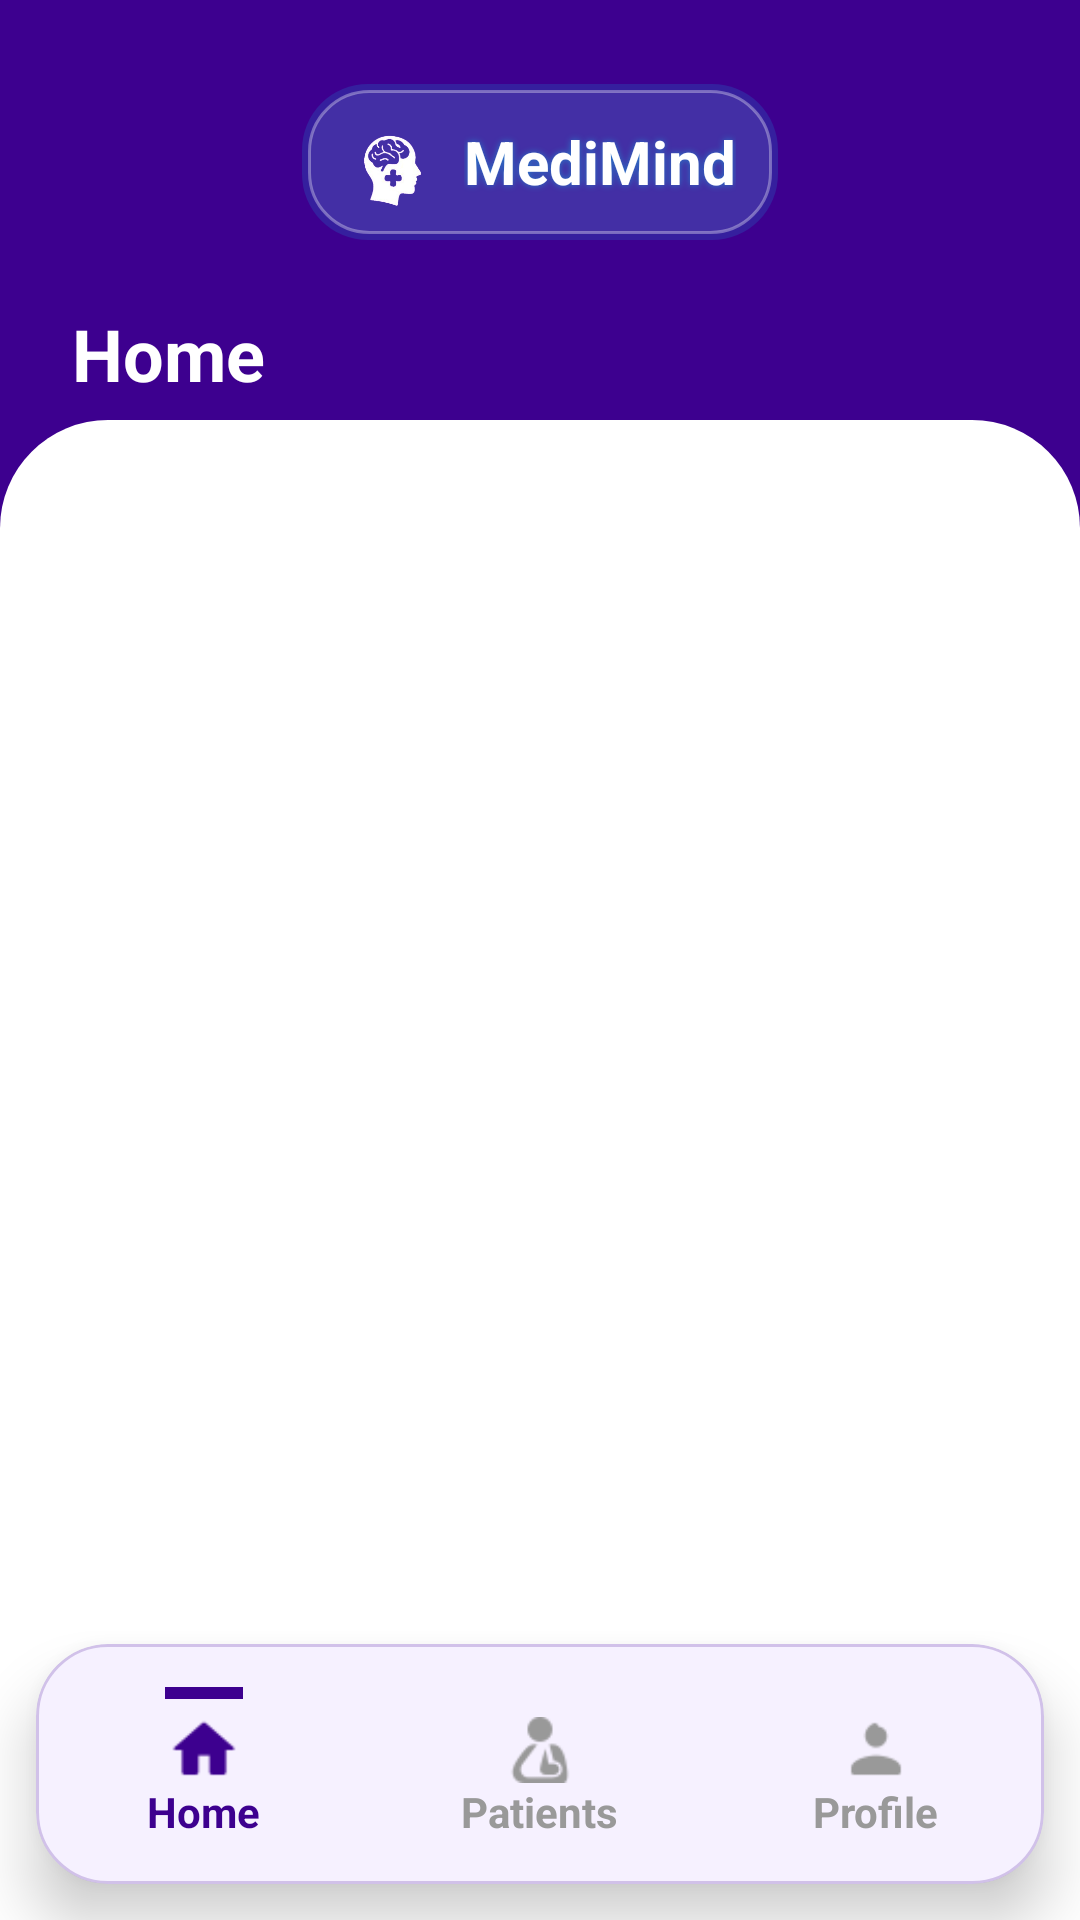

Screen size 1080 x 1920. Icon name, then its center in pixels as (x=x, y=y):
user: (x=876, y=1749)
